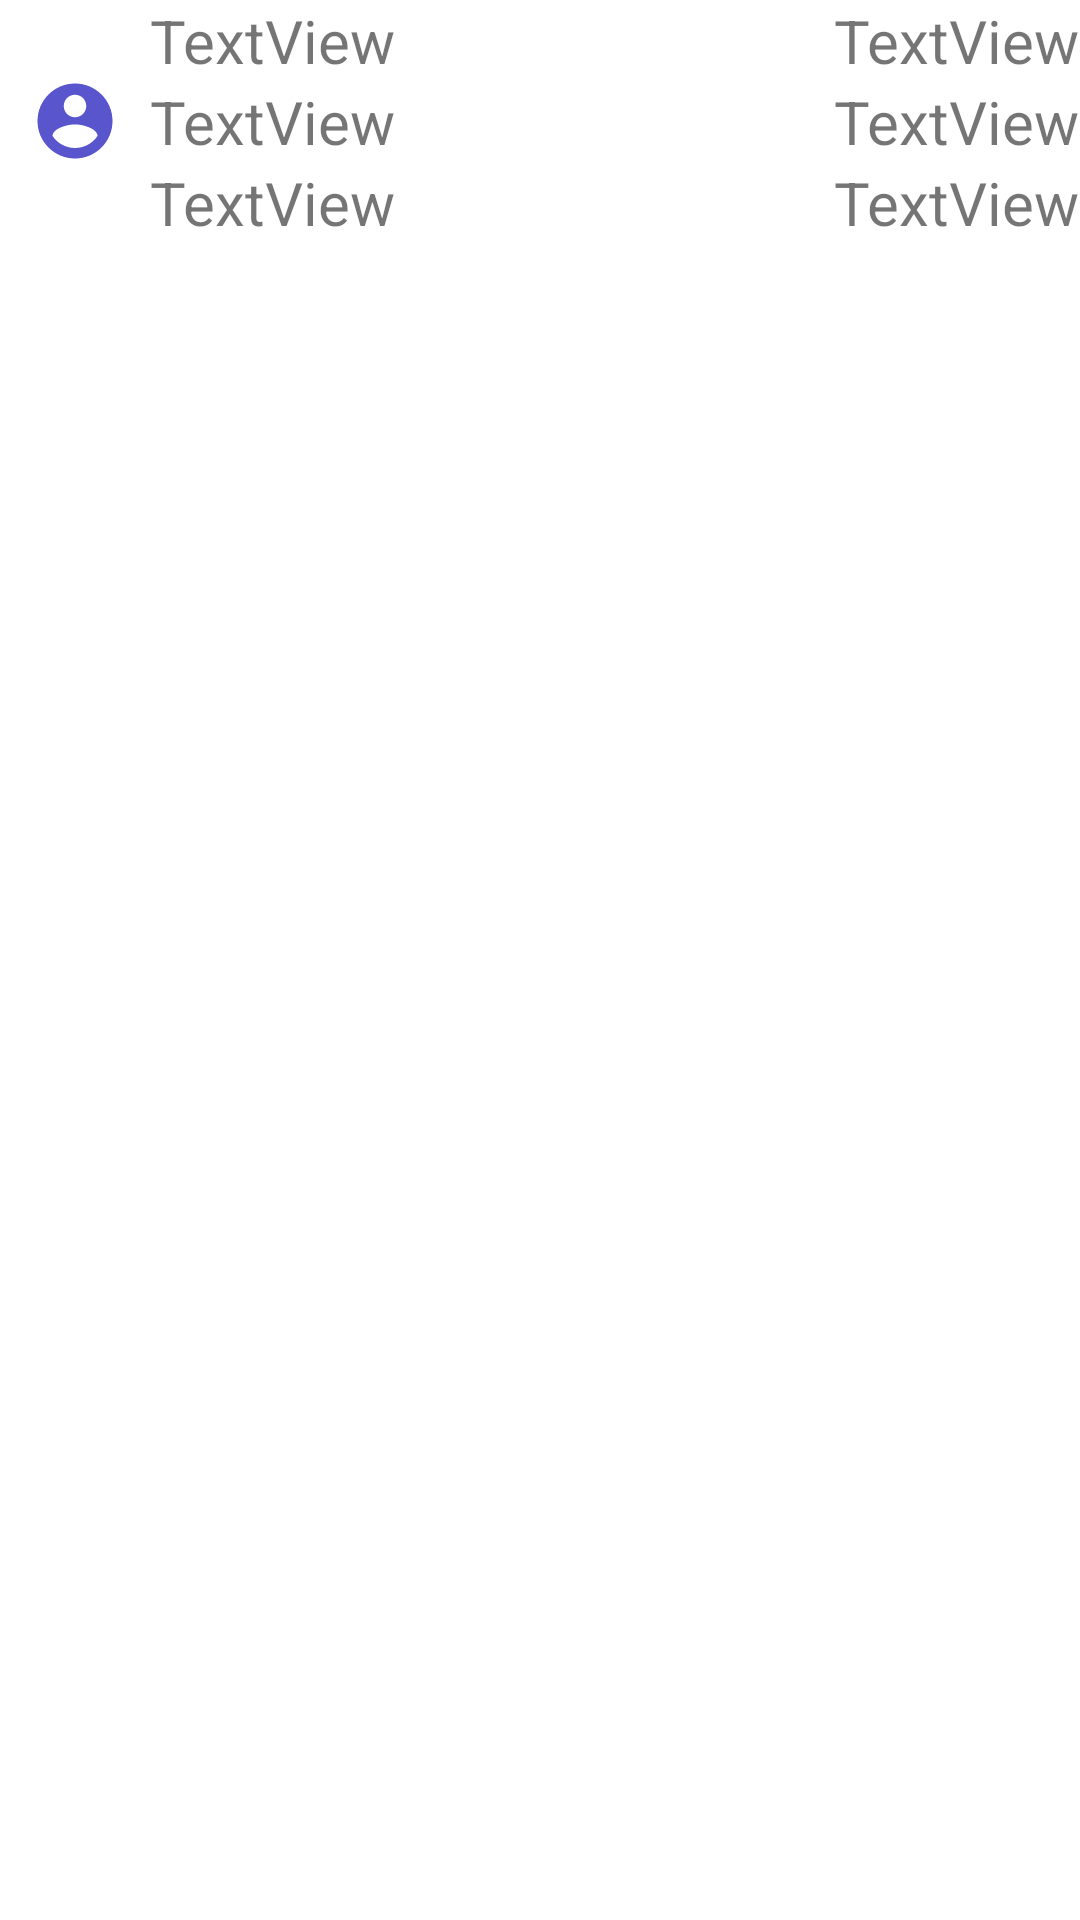

Icon click points for this 1080w x 1920h phone screenshot, format (x=x, y=y):
account circle: (x=75, y=121)
